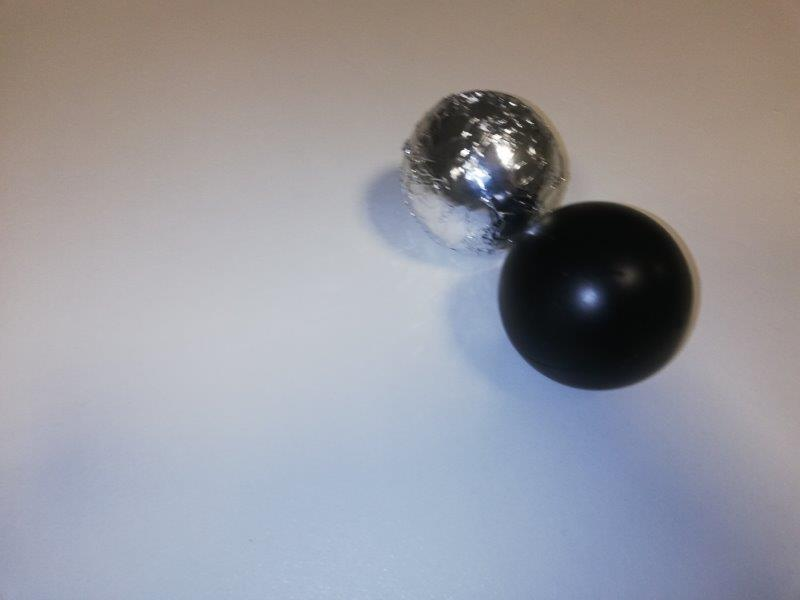bianca: (403, 88, 565, 252)
nera: (503, 203, 690, 391)
